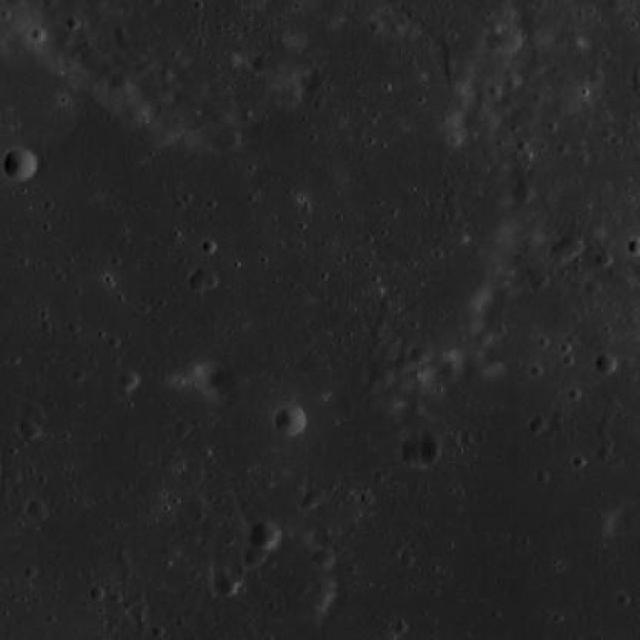crater: (222, 530, 335, 638), (402, 432, 438, 466), (3, 147, 37, 180), (248, 520, 280, 551), (274, 404, 304, 434), (552, 234, 582, 263), (48, 104, 77, 132), (136, 472, 164, 498), (496, 26, 522, 52), (214, 572, 238, 597), (408, 342, 432, 364), (244, 545, 267, 567), (313, 546, 335, 568), (393, 356, 415, 378), (26, 499, 48, 521), (594, 353, 616, 373), (512, 183, 534, 203), (369, 370, 391, 390), (106, 74, 128, 94), (188, 273, 207, 292), (252, 55, 272, 73), (530, 273, 550, 290), (118, 372, 136, 390), (20, 402, 38, 420), (228, 567, 246, 584), (529, 416, 548, 432), (468, 428, 486, 444), (302, 492, 320, 508), (454, 431, 472, 446), (627, 239, 640, 256)
